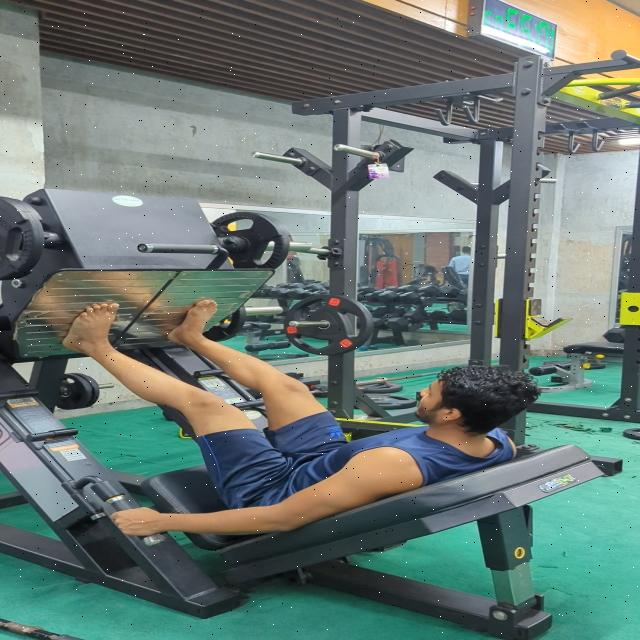Normal_LegPress: (53, 292, 540, 543)
